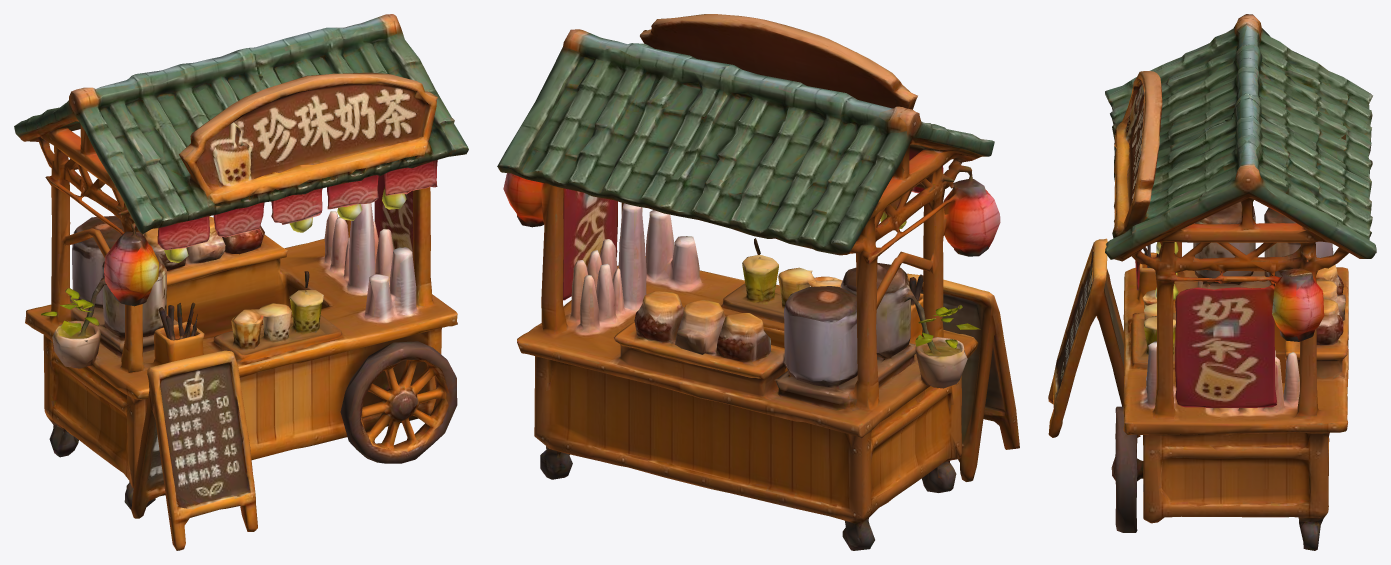
File: stall-boba.glb
3 views of the same model, side by side, from view 1: azimuth 30°, elevation 25°; view 2: azimuth 150°, elevation 25°; view 3: azimuth 270°, elevation 25° (orthographic). The views are drawn at different scales.
Visible parts, largest first — view 1: tripo_node_d3309372-d2d3-49d0-810c-d5718061d40f; view 2: tripo_node_d3309372-d2d3-49d0-810c-d5718061d40f; view 3: tripo_node_d3309372-d2d3-49d0-810c-d5718061d40f.
Part boxes in pixels (bbox=[...]): tripo_node_d3309372-d2d3-49d0-810c-d5718061d40f: bbox=[14, 14, 468, 550]; tripo_node_d3309372-d2d3-49d0-810c-d5718061d40f: bbox=[497, 14, 1019, 550]; tripo_node_d3309372-d2d3-49d0-810c-d5718061d40f: bbox=[1048, 14, 1376, 550].
Size of the model in its own units: 0.9878 by 0.9529 by 0.7261.
1 material, 1 textured.
